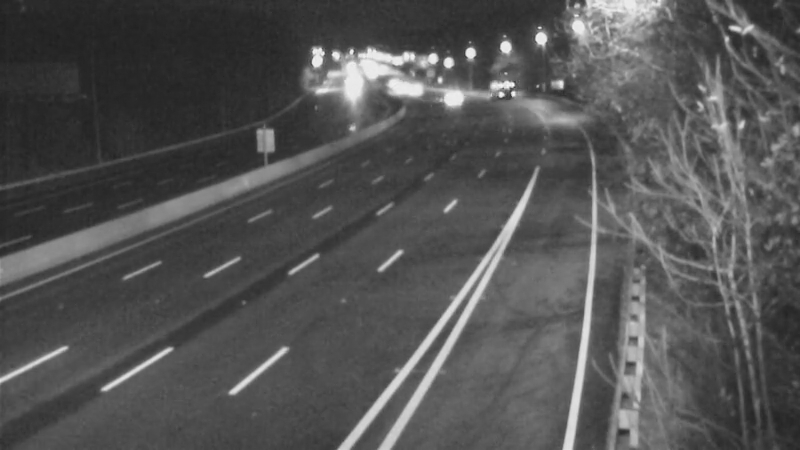vehicle: (473, 64, 523, 114), (428, 70, 478, 120), (330, 61, 380, 111)
